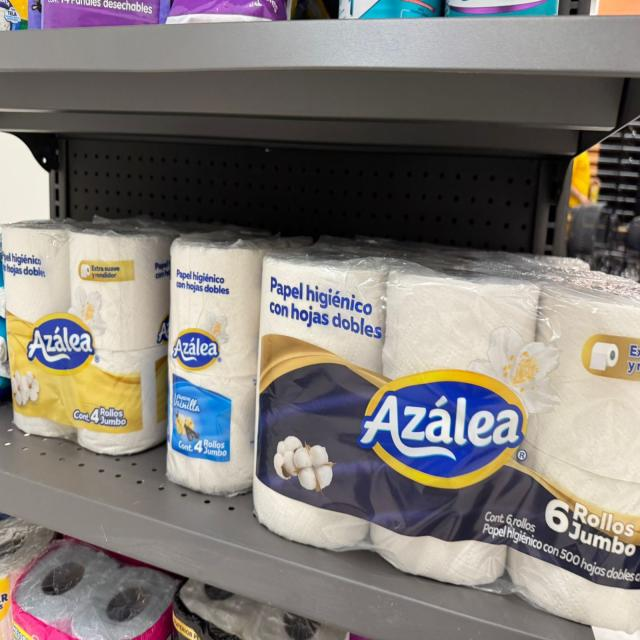Higienico Suavel 325h 4rollos: (12, 542, 178, 639)
PAPEL HIGIENICO AZALEA 4 ROLLOS 350 HOJAS: (0, 221, 176, 458)
PAPEL HIGIENICO AZALEA 4S CON AROMA: (165, 235, 265, 500)
Papel Higienico Azalea 6 Rollos 500 Hojas: (252, 249, 640, 634)
